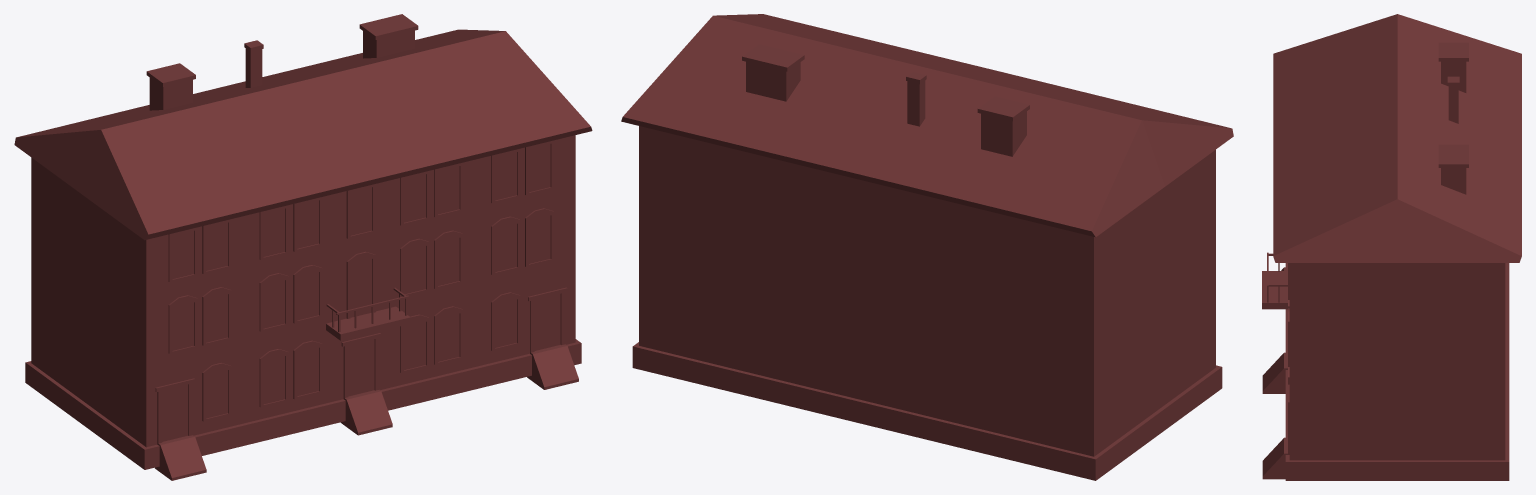
Rendered from house_proto_scaled.fbx.
3 renders of one model, left to right at view 1: azimuth 30°, elevation 25°; view 2: azimuth 150°, elevation 25°; view 3: azimuth 270°, elevation 25°, orthographic. The views are drawn at different scales.
Visible parts, largest first — view 1: HouseProtoMeshScaled; view 2: HouseProtoMeshScaled; view 3: HouseProtoMeshScaled.
Boxes of the visible parts, x1,y1,x2,y2 form: HouseProtoMeshScaled: [14, 14, 592, 480]; HouseProtoMeshScaled: [621, 14, 1233, 480]; HouseProtoMeshScaled: [1262, 14, 1521, 480].
Size of the model in its own units: 1174 by 794 by 629.
